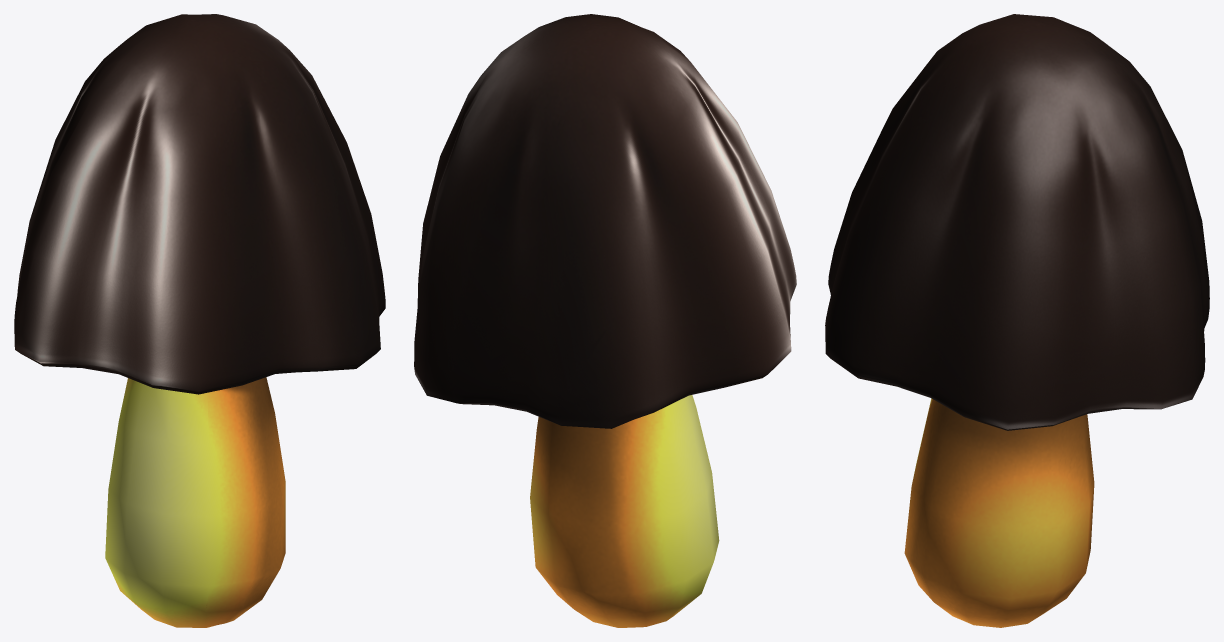
The model's file is mushroom.glb.
The picture shows the model from 3 angles, left to right: view 1: azimuth 30°, elevation 25°; view 2: azimuth 150°, elevation 25°; view 3: azimuth 270°, elevation 25°; orthographic projection. The views are drawn at different scales.
Parts seen in each view (by area): view 1: MARSHROOM_UV_MARSHROOM_toB; view 2: MARSHROOM_UV_MARSHROOM_toB; view 3: MARSHROOM_UV_MARSHROOM_toB.
Part boxes in pixels (box(x1,y1,x2,y2)): MARSHROOM_UV_MARSHROOM_toB: box(14, 14, 385, 627); MARSHROOM_UV_MARSHROOM_toB: box(414, 14, 796, 627); MARSHROOM_UV_MARSHROOM_toB: box(825, 14, 1209, 627).
Size of the model in its own units: 0.5129 by 0.8285 by 0.4763.
1 material, 1 textured.
